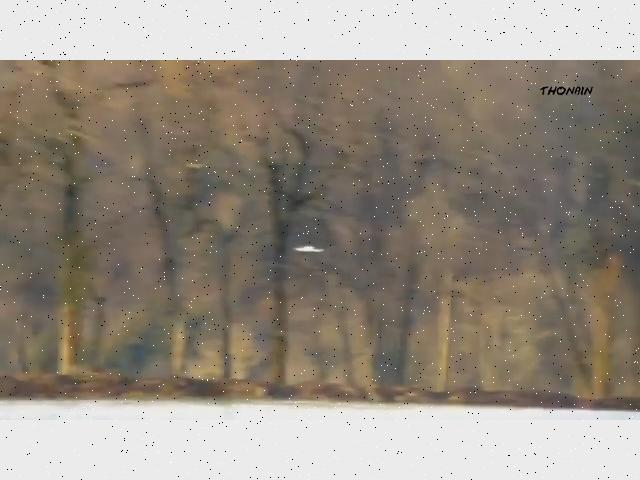Anti-Drone: (288, 241, 330, 261)
